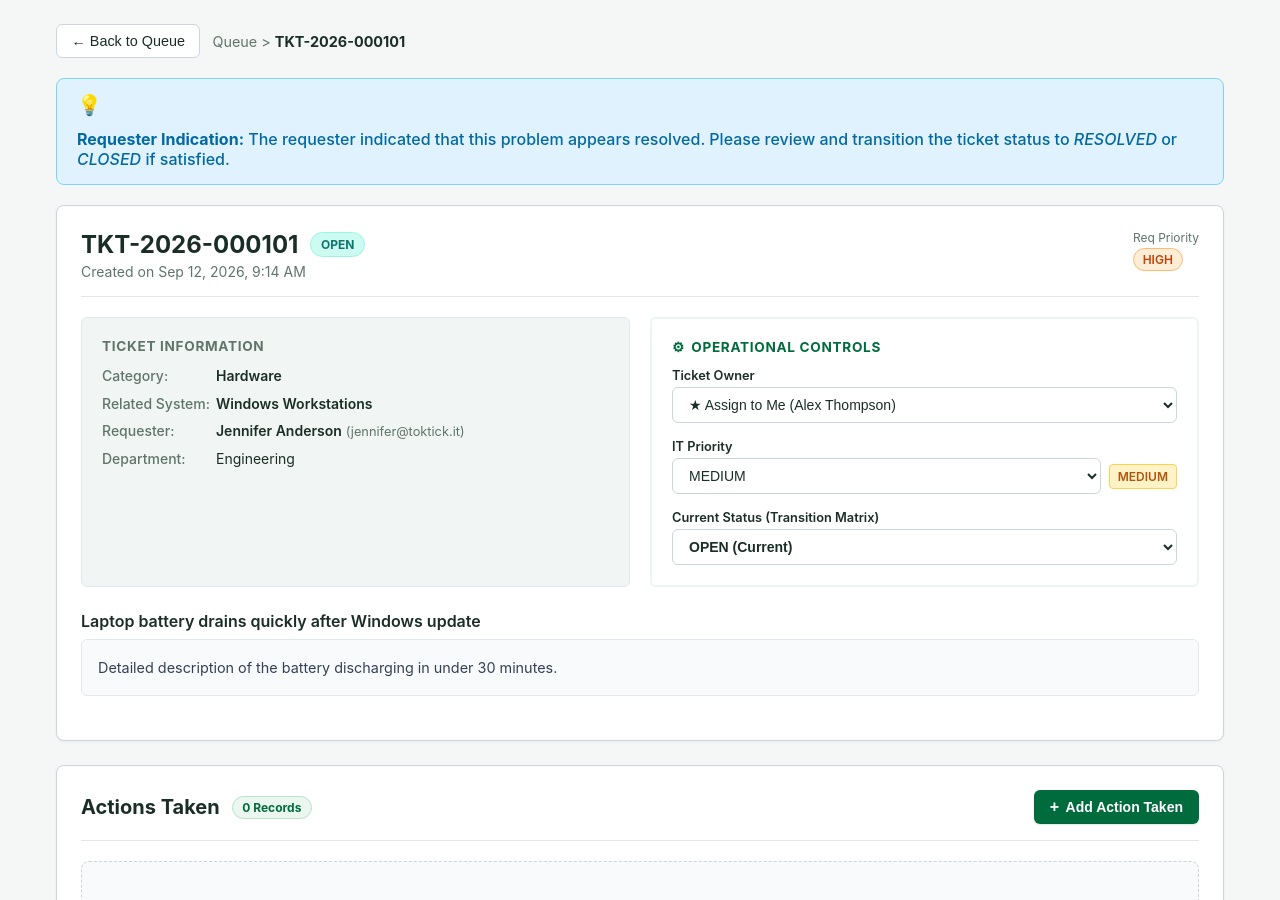
Test: UI-04 & UI-05: StaffTicketDetail Component Tests › UI-04: Operational Controls & Status Transition Matrix › allows updating IT Priority via dropdown
// Change priority to CRITICAL
Select "CRITICAL" in the dropdown with test id "it-priority-select" at (886, 476), box x1=672 y1=458 x2=1101 y2=494
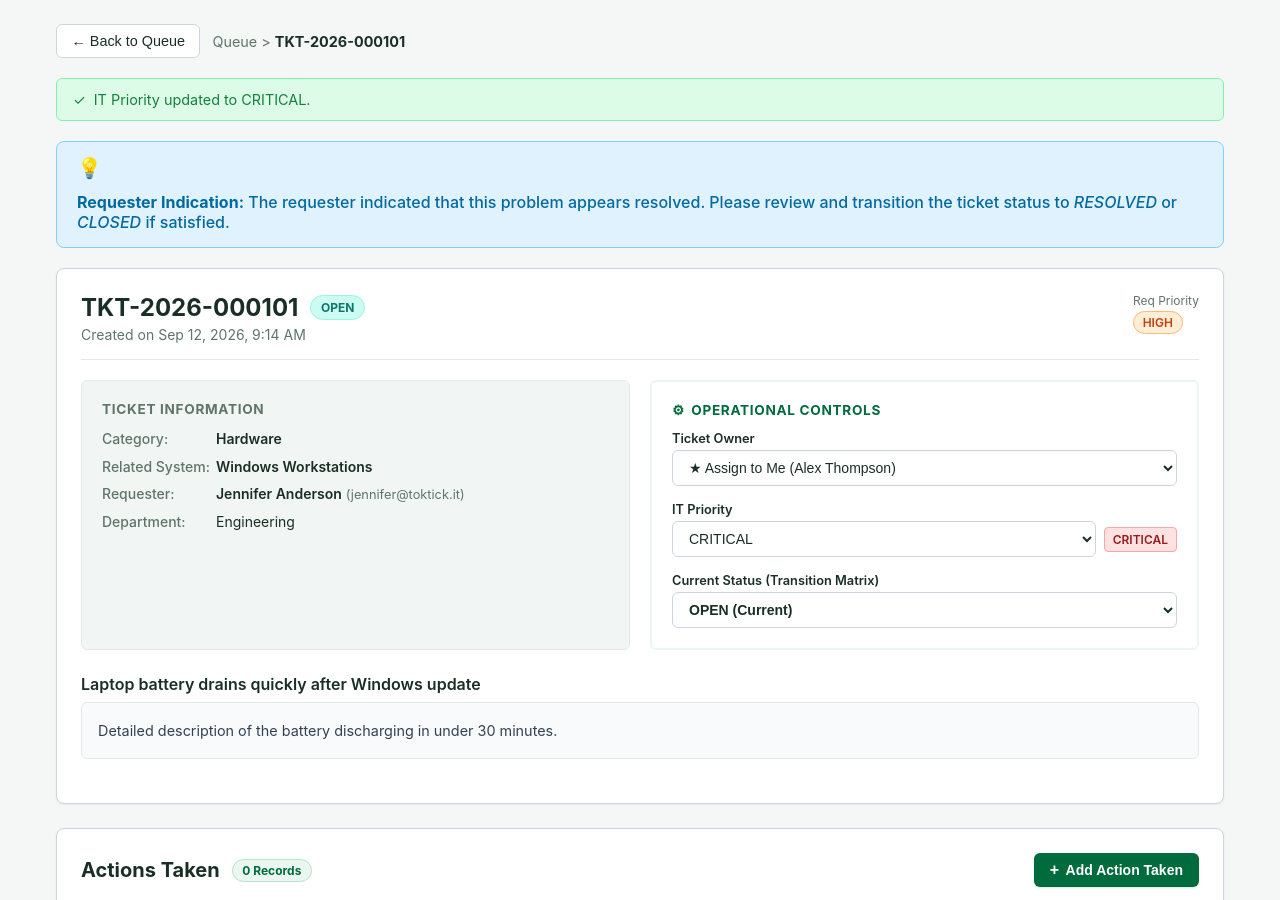
Now the text "IT Priority updated to CRITICAL." is shown, box x1=94 y1=91 x2=310 y2=108
